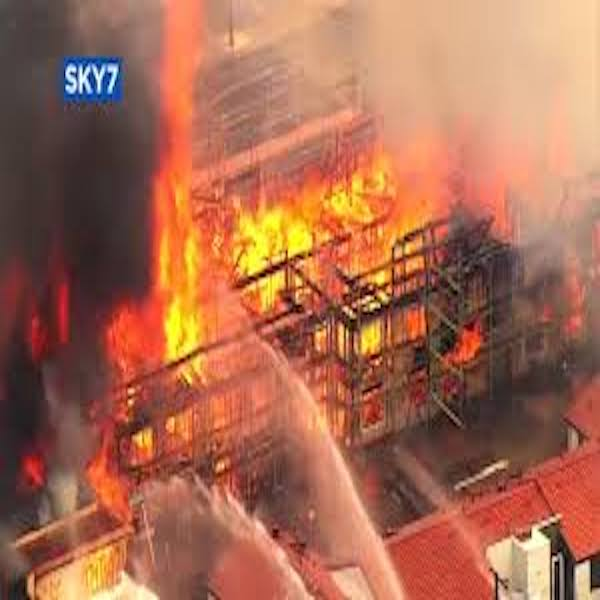fire: (147, 8, 228, 356), (231, 196, 385, 263), (350, 147, 445, 194), (78, 450, 137, 523), (459, 329, 482, 359), (361, 326, 384, 351)
